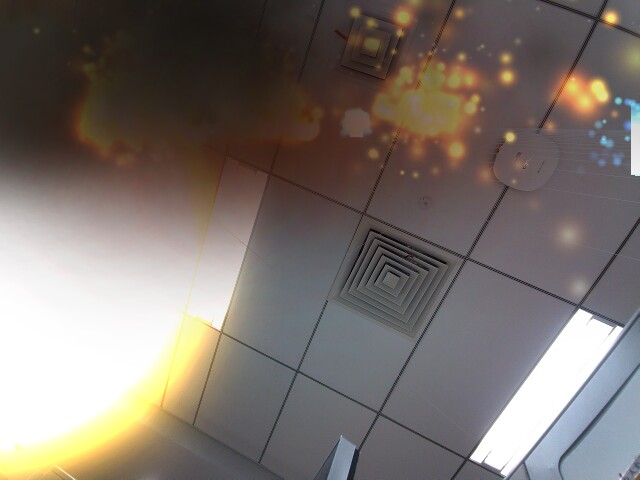fire: (2, 89, 225, 474)
